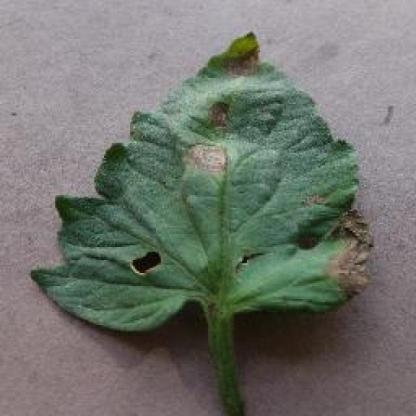Tomato_Blight: (32, 32, 372, 328)
